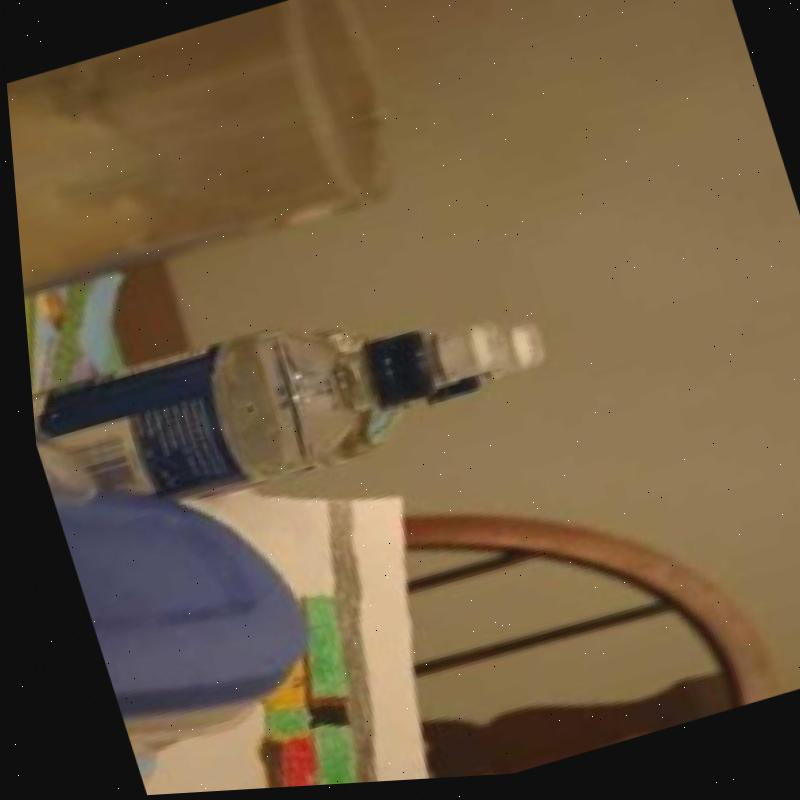botella: (18, 262, 518, 538), (206, 260, 562, 493)
